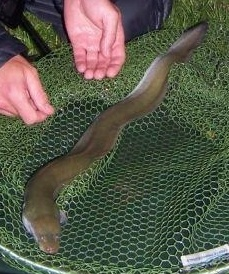Anguilla anguilla: (20, 20, 209, 254)
